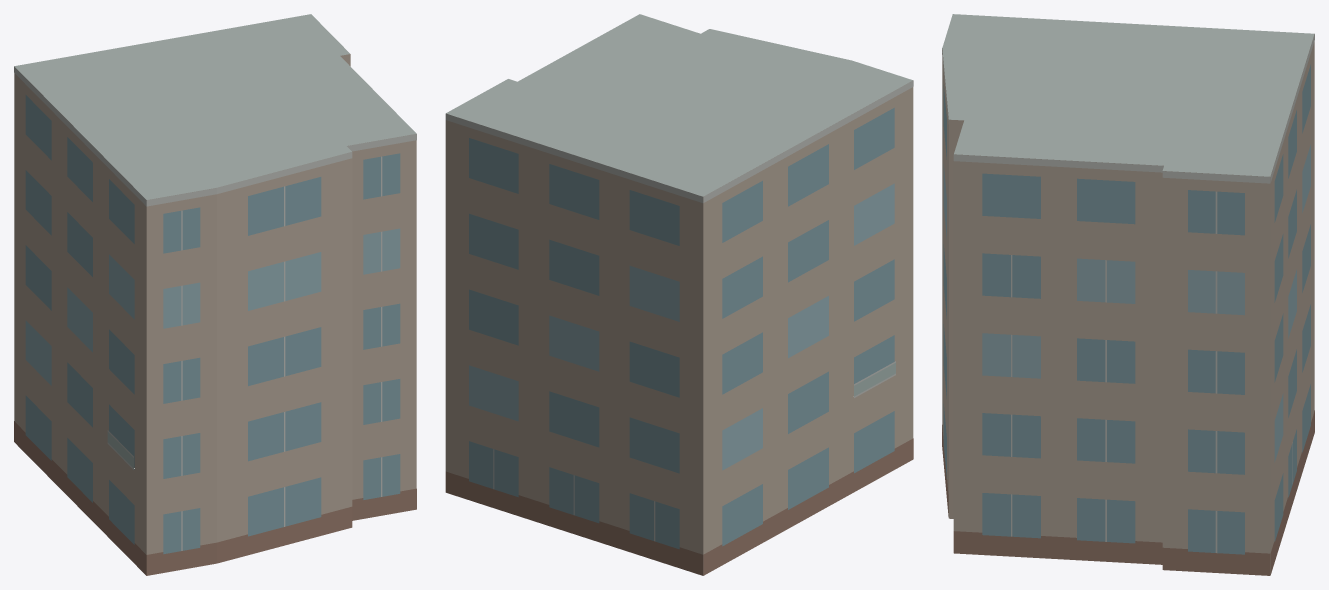
File: survey-upis-32708271.glb
The picture shows the model from 3 angles, left to right: view 1: azimuth 30°, elevation 25°; view 2: azimuth 150°, elevation 25°; view 3: azimuth 270°, elevation 25°; orthographic projection. The views are drawn at different scales.
Visible parts, largest first — view 1: survey-upis-32708271.tmp; view 2: survey-upis-32708271.tmp; view 3: survey-upis-32708271.tmp.
Part boxes in pixels (left/top/right/bottom): survey-upis-32708271.tmp: left=14, top=14, right=416, bottom=575; survey-upis-32708271.tmp: left=445, top=14, right=913, bottom=575; survey-upis-32708271.tmp: left=942, top=14, right=1314, bottom=575.
Size of the model in its own units: 12.43 by 14.2 by 12.02.
